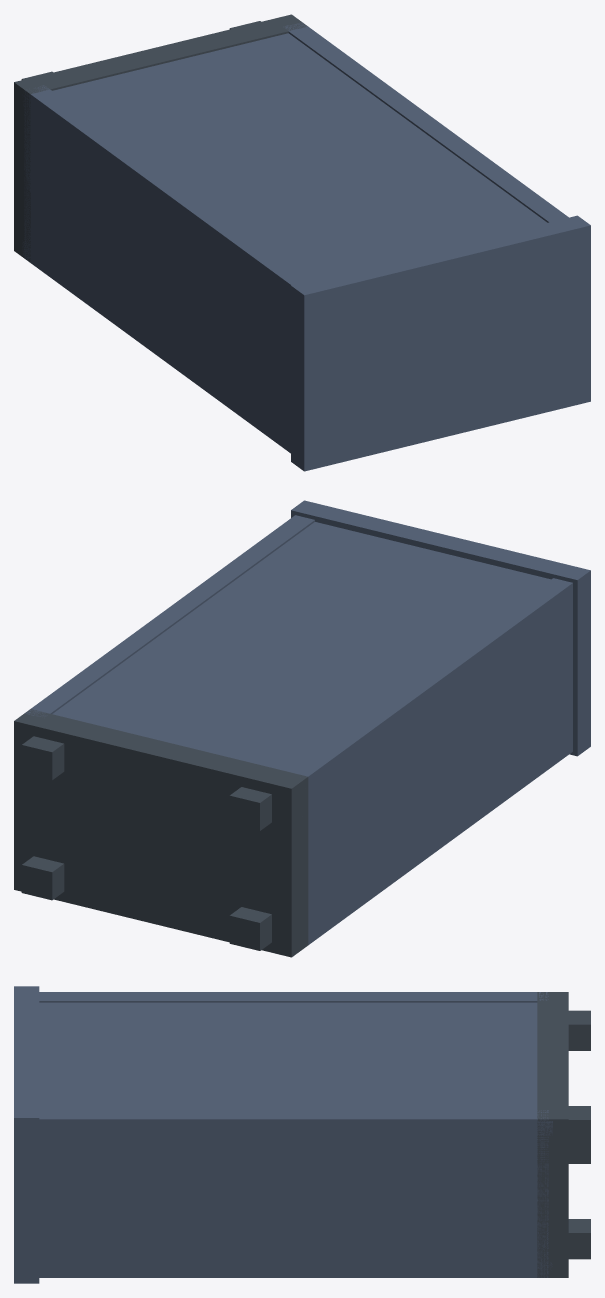
The model's file is OSB_Energy_Ic_Batarya_Kabini.glb.
3 renders of one model, top to bottom at view 1: azimuth 30°, elevation 25°; view 2: azimuth 150°, elevation 25°; view 3: azimuth 270°, elevation 25°, orthographic. The views are drawn at different scales.
Visible parts, largest first — view 1: frame_side_0.4, cabinet_roof, vertical_frame_-0.72, cabinet_base, vertical_frame_0.72, frame_side_-0.4; view 2: frame_side_0.4, vertical_frame_-0.72, cabinet_base, cabinet_roof, vertical_frame_0.72, frame_side_-0.4, foot_0.58_-0.32, foot_0.58_0.32, foot_-0.58_-0.32, foot_-0.58_0.32; view 3: vertical_frame_0.72, frame_side_0.4, cabinet_base, cabinet_roof, vertical_frame_-0.72, frame_side_-0.4, foot_-0.58_0.32, foot_0.58_-0.32, foot_0.58_0.32, foot_-0.58_-0.32.
Part boxes in pixels (box(x1,y1,x2,y2)): frame_side_0.4: box(22, 33, 547, 301); cabinet_roof: box(291, 215, 590, 471); vertical_frame_-0.72: box(24, 85, 310, 453); cabinet_base: box(14, 14, 307, 262); vertical_frame_0.72: box(283, 22, 568, 222); frame_side_-0.4: box(22, 240, 290, 449); frame_side_0.4: box(52, 522, 572, 790); vertical_frame_-0.72: box(289, 578, 572, 944); cabinet_base: box(14, 709, 308, 957); cabinet_roof: box(291, 500, 590, 756); vertical_frame_0.72: box(25, 515, 314, 716); frame_side_-0.4: box(308, 735, 572, 942); foot_0.58_-0.32: box(21, 856, 64, 900); foot_0.58_0.32: box(21, 736, 64, 780); foot_-0.58_-0.32: box(229, 907, 271, 950); foot_-0.58_0.32: box(229, 787, 271, 830); vertical_frame_0.72: box(39, 1110, 548, 1277); frame_side_0.4: box(39, 1002, 552, 1135); cabinet_base: box(537, 992, 568, 1277); cabinet_roof: box(14, 986, 39, 1283); vertical_frame_-0.72: box(39, 992, 548, 1002); frame_side_-0.4: box(39, 1262, 552, 1275); foot_-0.58_0.32: box(568, 1010, 590, 1050); foot_0.58_-0.32: box(568, 1219, 590, 1259); foot_0.58_0.32: box(568, 1106, 590, 1146); foot_-0.58_-0.32: box(568, 1146, 590, 1163).
Bounding box in the file's own units: 1.6 × 0.994 × 2.96.
